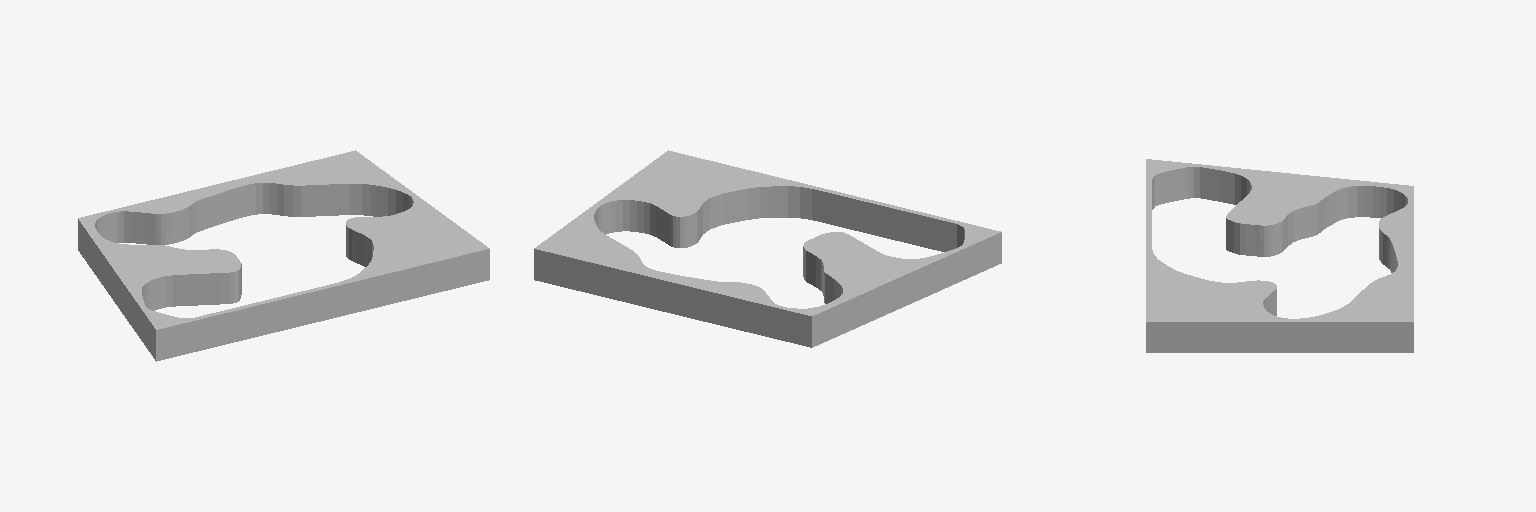
The model's file is marg.ext.obj.
3 renders of one model, left to right at view 1: azimuth 30°, elevation 25°; view 2: azimuth 150°, elevation 25°; view 3: azimuth 270°, elevation 25°, orthographic.
Parts seen in each view (by area): view 1: margenes.ext_Cube.004; view 2: margenes.ext_Cube.004; view 3: margenes.ext_Cube.004.
Boxes of the visible parts, box(x1,y1,x2,y2) form: margenes.ext_Cube.004: box(78, 150, 489, 361); margenes.ext_Cube.004: box(534, 150, 1001, 347); margenes.ext_Cube.004: box(1146, 159, 1413, 352).
Bounding box in the file's own units: 1142 × 103 × 796.